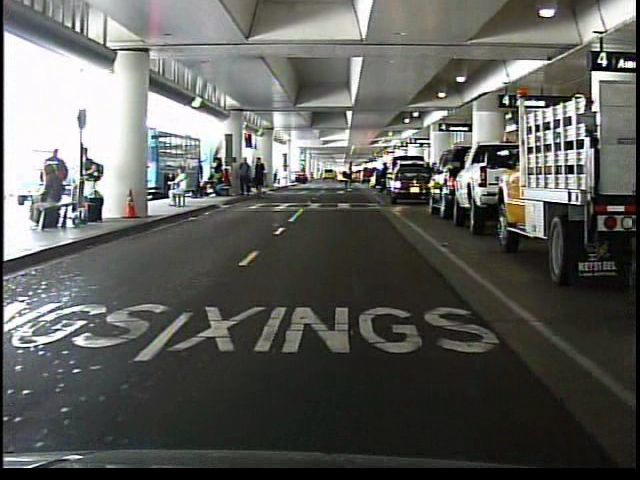person: (164, 169, 193, 212), (339, 159, 360, 193), (193, 156, 207, 201)
